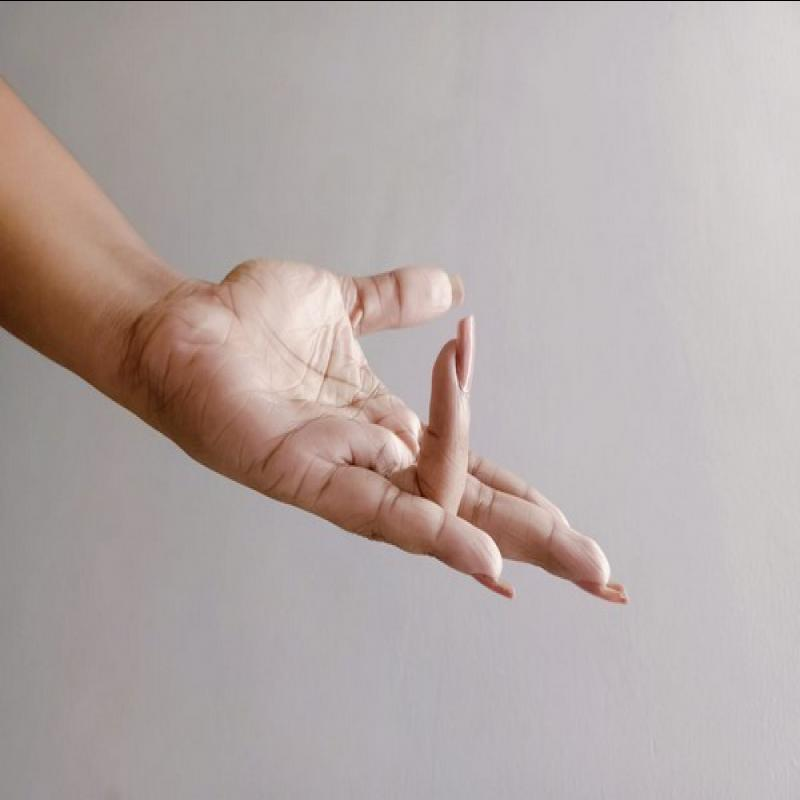Pathaaka: (129, 239, 651, 613)
